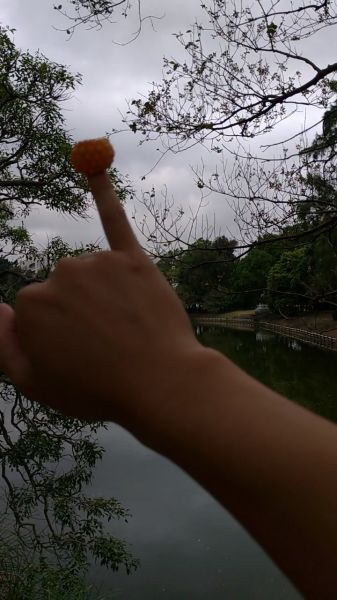eggs: (67, 139, 120, 173)
